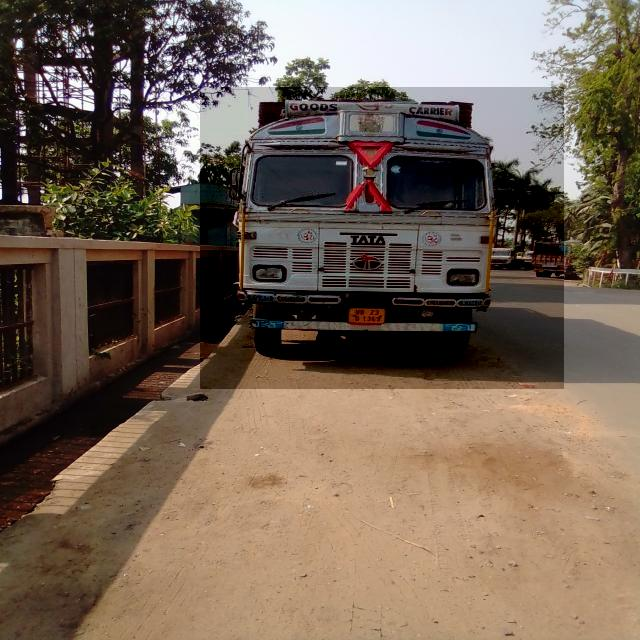Truck: (200, 88, 564, 390)
